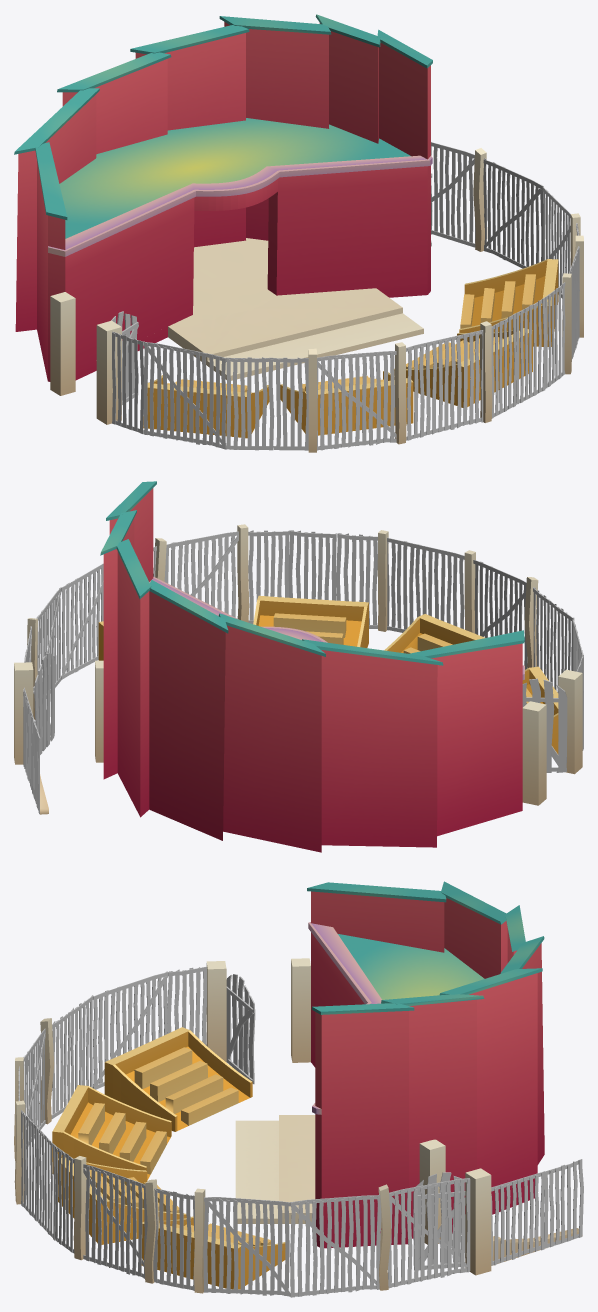
File: SM_LagoonTheatreCMP.fbx
The picture shows the model from 3 angles, top to bottom: view 1: azimuth 30°, elevation 25°; view 2: azimuth 150°, elevation 25°; view 3: azimuth 270°, elevation 25°; orthographic projection. The views are drawn at different scales.
Visible parts, largest first — view 1: SM_LagoonTheatre01; view 2: SM_LagoonTheatre01; view 3: SM_LagoonTheatre01.
Boxes of the visible parts, bbox=[...] form: SM_LagoonTheatre01: bbox=[14, 14, 583, 452]; SM_LagoonTheatre01: bbox=[14, 481, 583, 852]; SM_LagoonTheatre01: bbox=[14, 881, 583, 1297].
Size of the model in its own units: 17.73 by 17.57 by 8.09.
